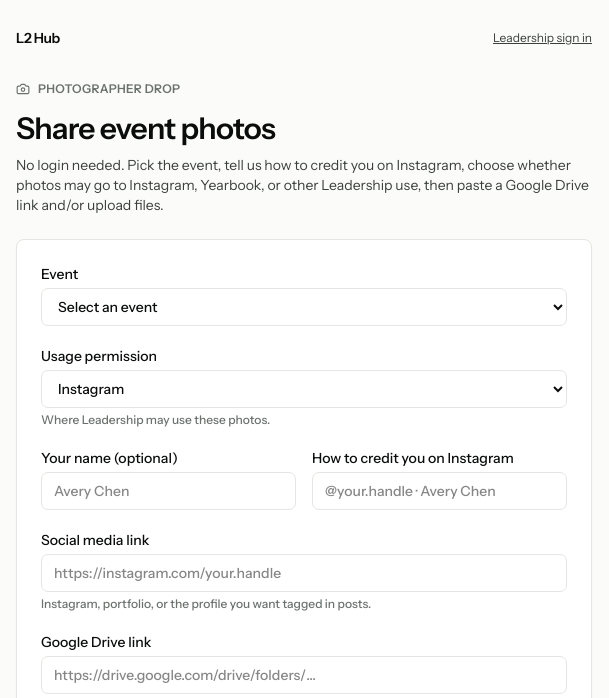
Test case: PhotographerUploadPage › submits a Drive link with credit and permission without signing in
Expected: the heading "Share event photos" is shown, [16,110,275,146]
Select "Fall Rally (2026)" in the dropdown labelled "Event": (304, 306) [41,288,567,326]
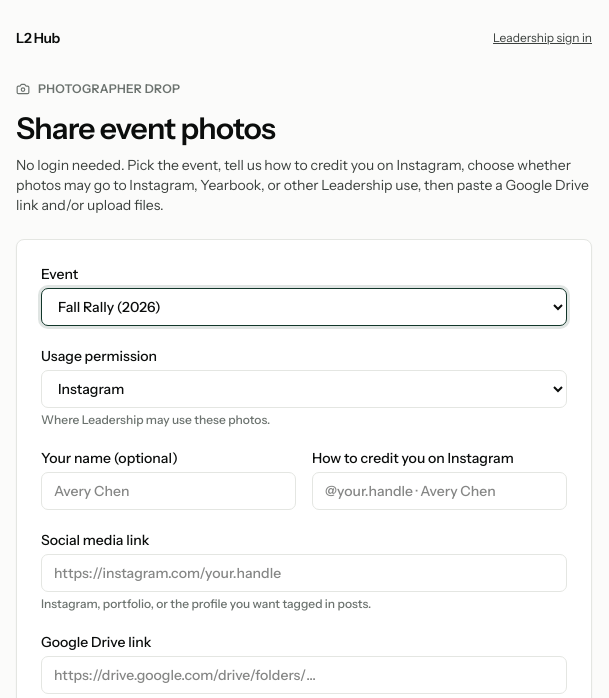
Select "Yearbook" in the dropdown labelled "Usage permission Where Leadership may use these photos.": (304, 388) [41,370,567,408]
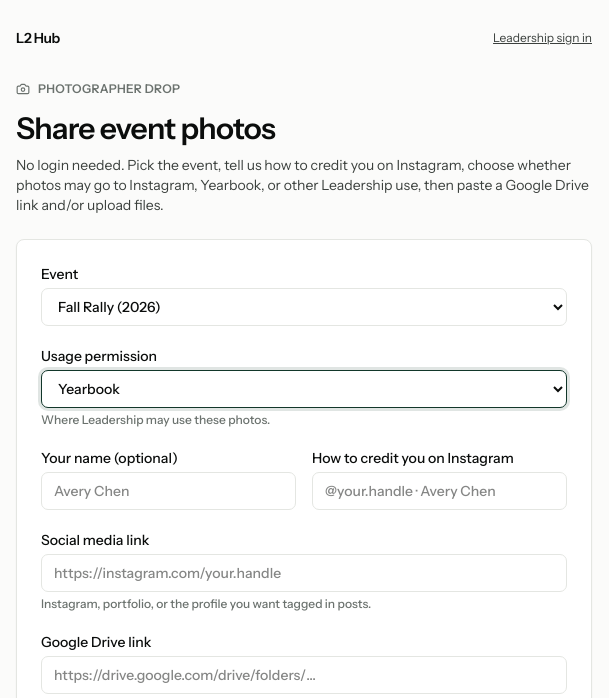
In the field labelled "How to credit you on Instagram": (440, 490) [312,472,567,510], type "@msj.lens"
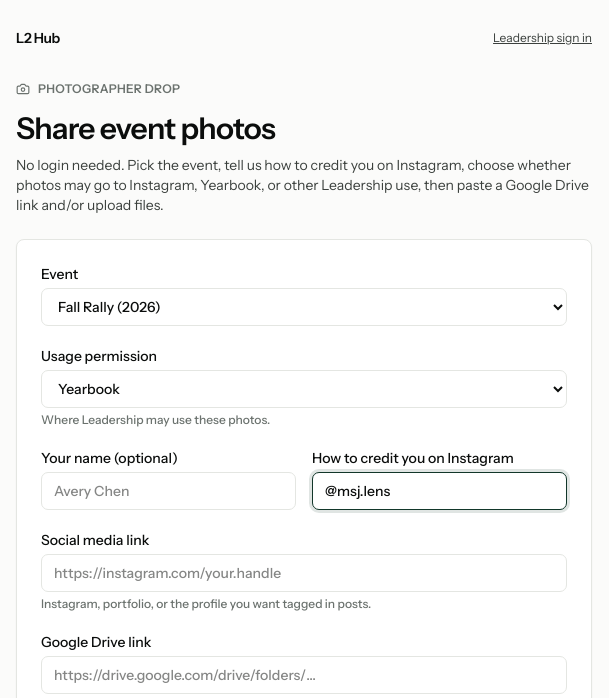
In the field labelled "Social media link": (304, 572) [41,554,567,592], type "https://instagram.com/msj.lens"
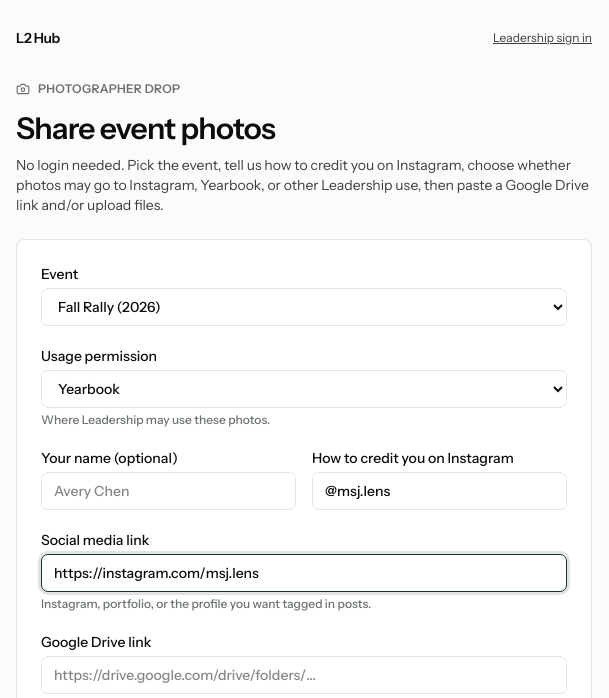
In the field labelled "Google Drive link": (304, 674) [41,656,567,694], type "https://drive.google.com/drive/folders/abc"
(page scrolled)
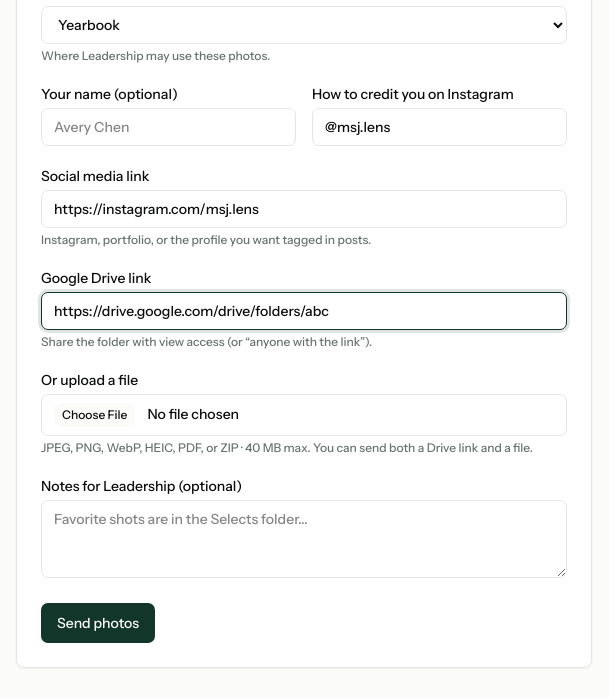
Click the button "Send photos": (98, 622) [41,602,155,642]
(page scrolled)
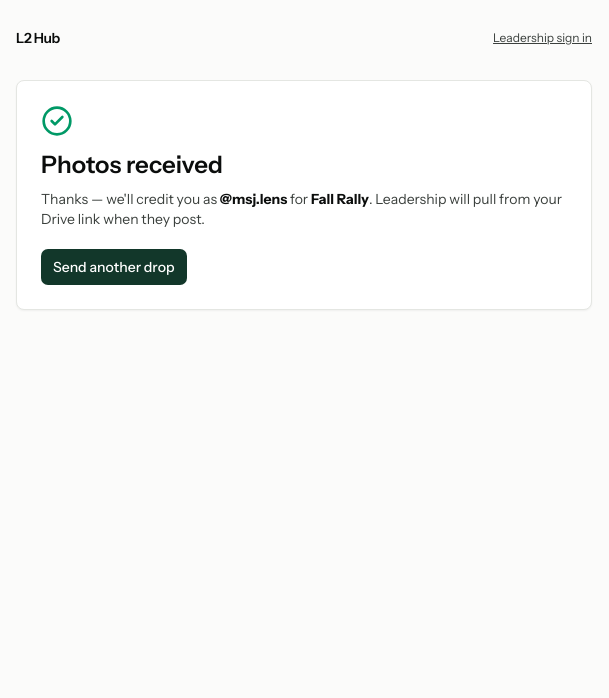
Expected: the heading "Photos received" is shown, [41,150,223,179]
Expected: the text "@msj.lens" is shown, [220,190,287,208]
Expected: the text "Fall Rally" is shown, [311,190,369,208]
